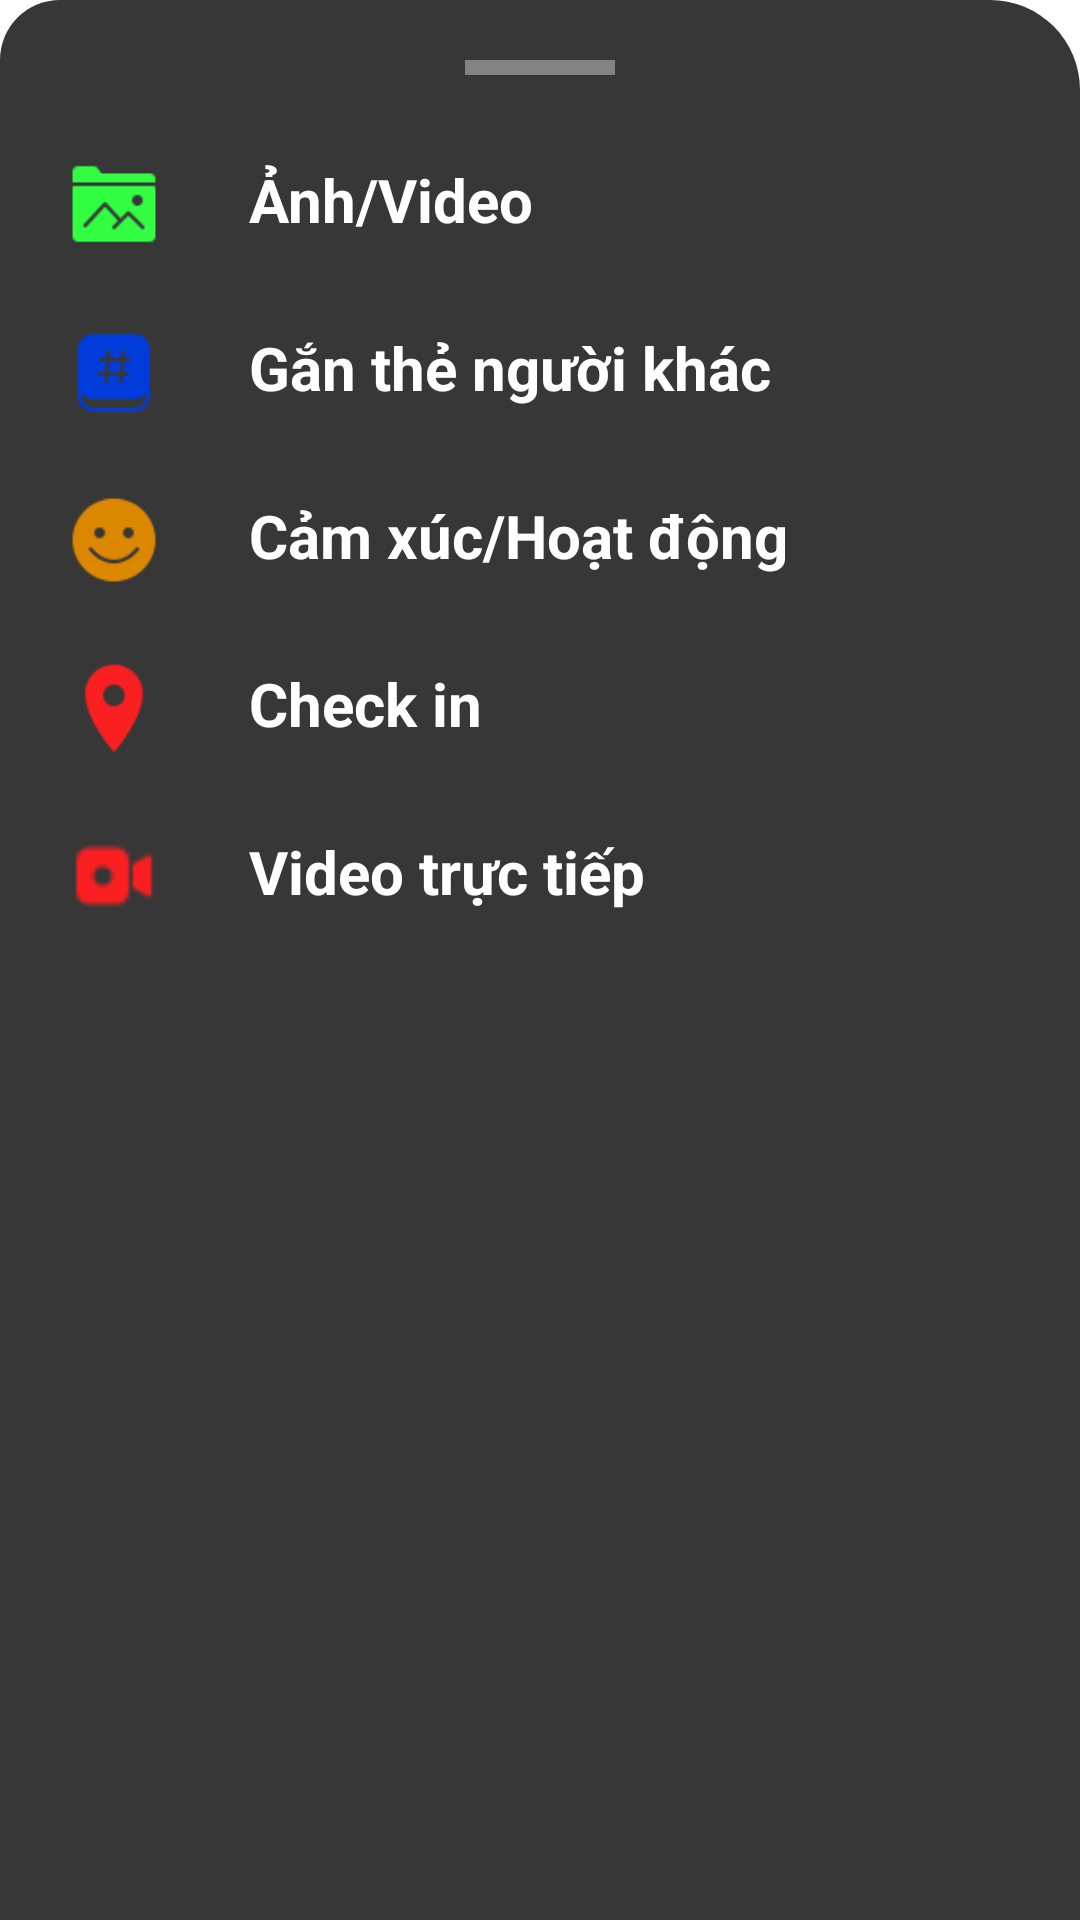

Icon click points for this 1080*1920 phone screenshot, format (x=x, y=y):
addphoto: (x=114, y=204)
emoji: (x=114, y=540)
location: (x=114, y=708)
stream: (x=114, y=876)
tag: (x=114, y=373)
